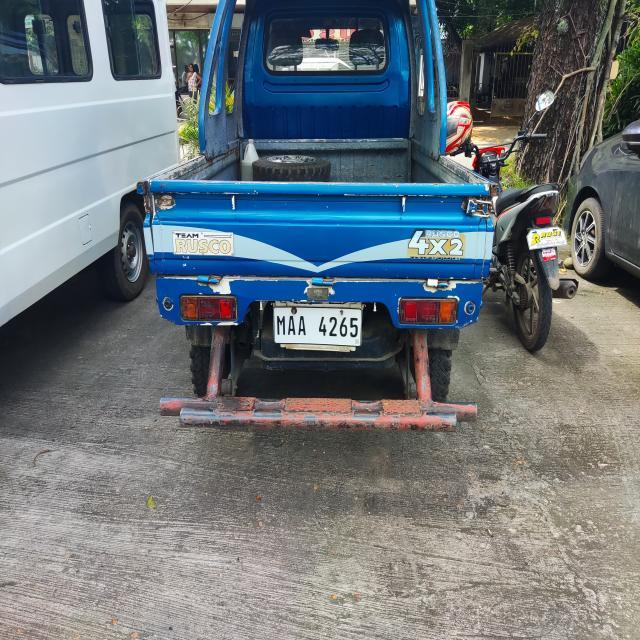LicensePlate: (269, 301, 363, 351)
